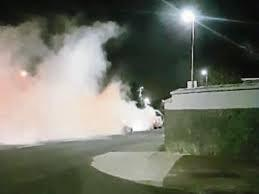smoke: (1, 89, 129, 137)
